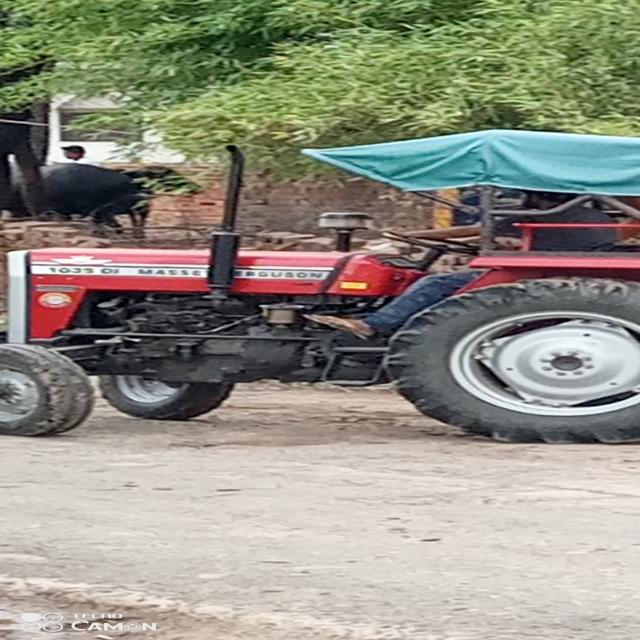tractor: (1, 109, 640, 479)
